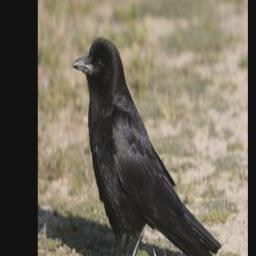Crow: (71, 35, 222, 256)
